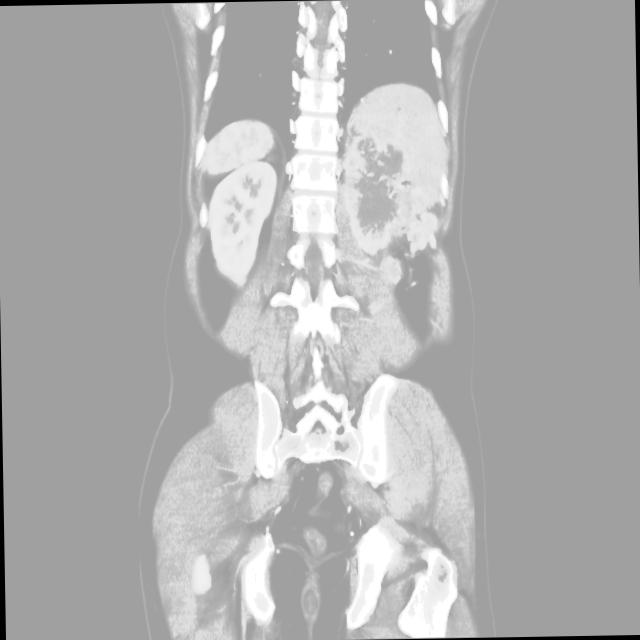TUMOR: (145, 67, 484, 475)
